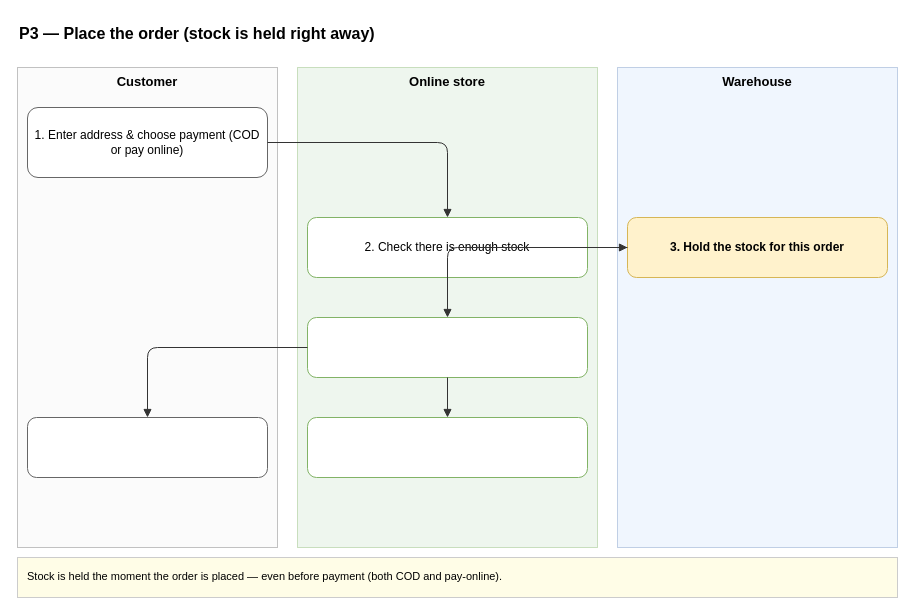
Some shapes in this 915 by 615 pixel diagram are drawn without their labels. Here are the shapes that lost their labels. From the top down, the centre of each, then its label:
At point (447, 347): "4. Create the order".
At point (147, 447): "Order created".
At point (447, 447): "5. Available count goes down".
